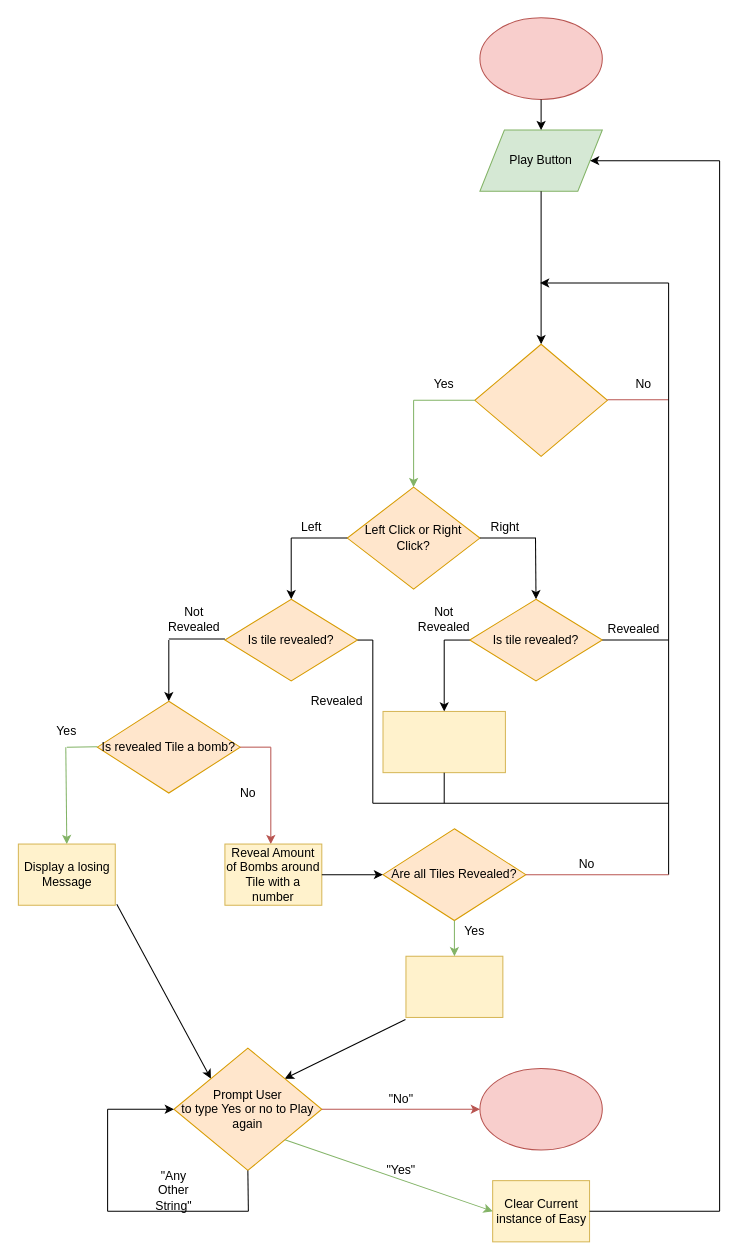
Some shapes in this 746 by 1260 pixel diagram are drawn without their labels. The centre of each missing label's shape, as x and y in pixels:
"Click within Game Grid" belongs at pixel 540 399.
"Display Winning Message" belongs at pixel 454 986.
"End Program" belongs at pixel 540 1108.
"Start" belongs at pixel 540 58.
"Unrevealed tile is marked Green" belongs at pixel 443 741.
